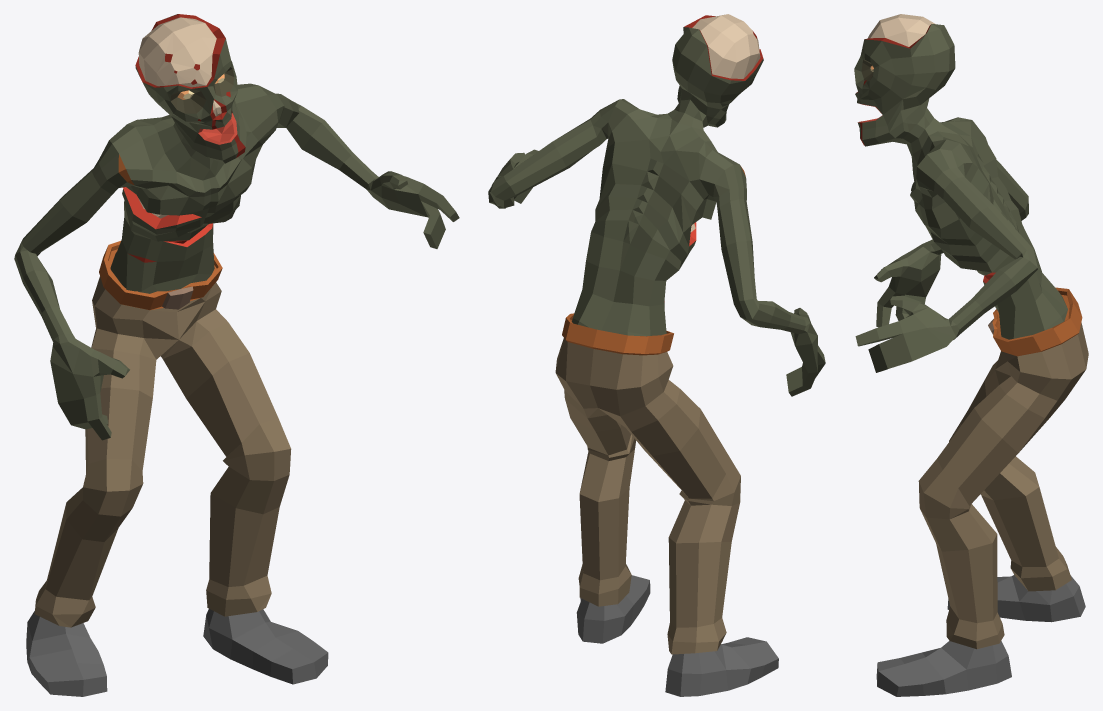
The model's file is zombie.glb.
The picture shows the model from 3 angles, left to right: view 1: azimuth 30°, elevation 25°; view 2: azimuth 150°, elevation 25°; view 3: azimuth 270°, elevation 25°; orthographic projection. The views are drawn at different scales.
Visible parts, largest first — view 1: Zombie_09_ZombieTexture_0; view 2: Zombie_09_ZombieTexture_0; view 3: Zombie_09_ZombieTexture_0.
Part boxes in pixels (<box>): Zombie_09_ZombieTexture_0: <box>14,14,459,696</box>; Zombie_09_ZombieTexture_0: <box>488,14,825,696</box>; Zombie_09_ZombieTexture_0: <box>854,14,1088,696</box>.
Bounding box in the file's own units: 29.09 × 50.41 × 17.3.
Materials: 1 (1 with a texture image).
